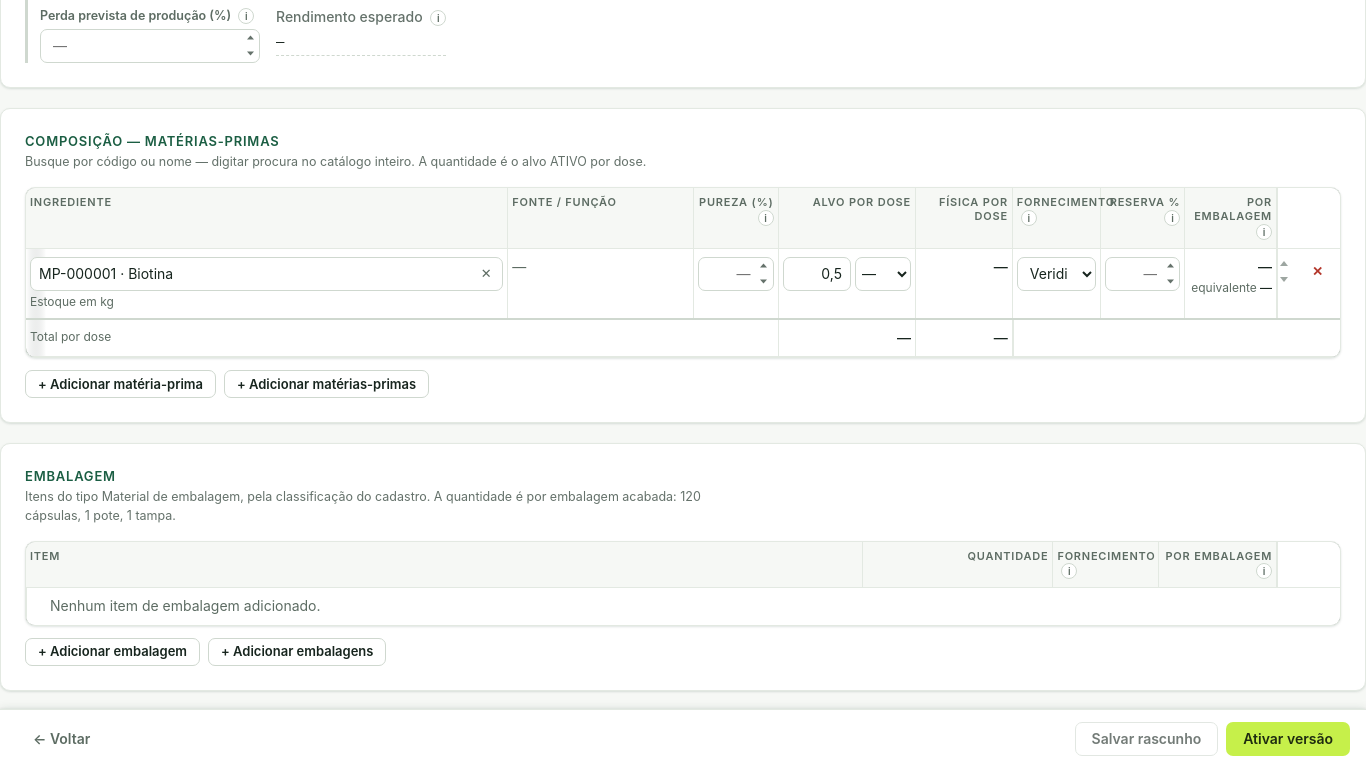
Test: Modelo de Formulação — linha incompleta não some ao salvar › quantidade sem item: salvar para e o item é o que falta, sem escolher nada pela pessoa
(page scrolled)
Click the button "+ Adicionar matéria-prima" at {"x": 120, "y": 384}, box top-left (25, 370), bottom-right (216, 398)
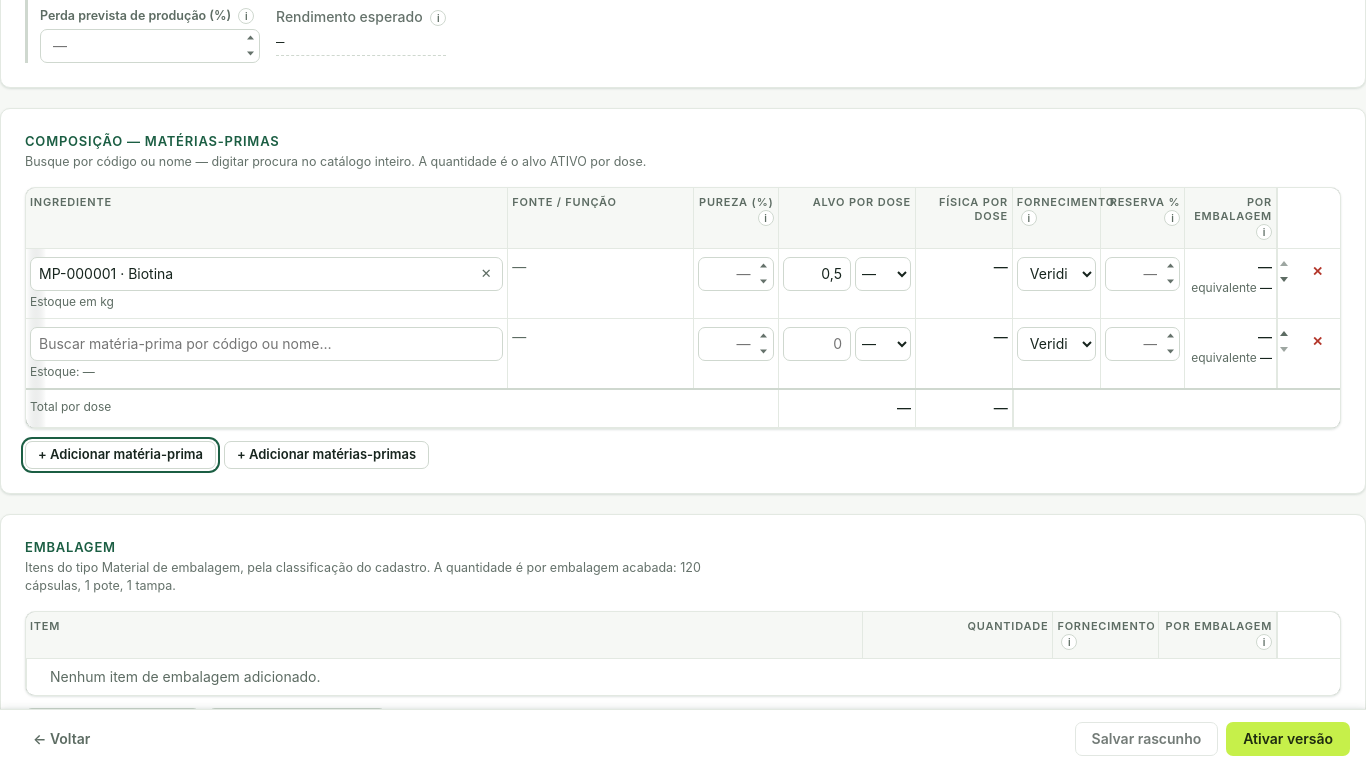
Type "2" into the field with placeholder "0" at {"x": 817, "y": 344}, box top-left (783, 327), bottom-right (851, 361)
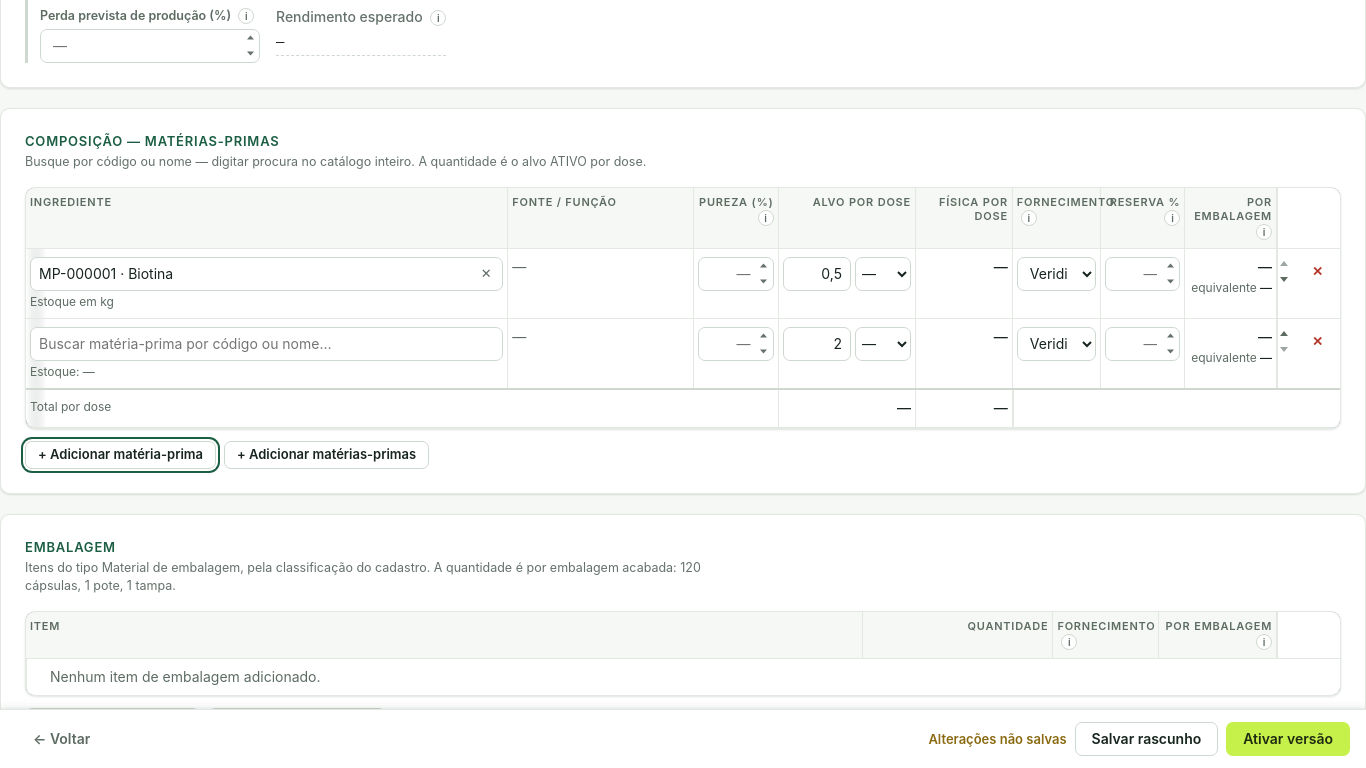
Click the button "Salvar rascunho" at {"x": 1146, "y": 739}, box top-left (1075, 722), bottom-right (1218, 756)
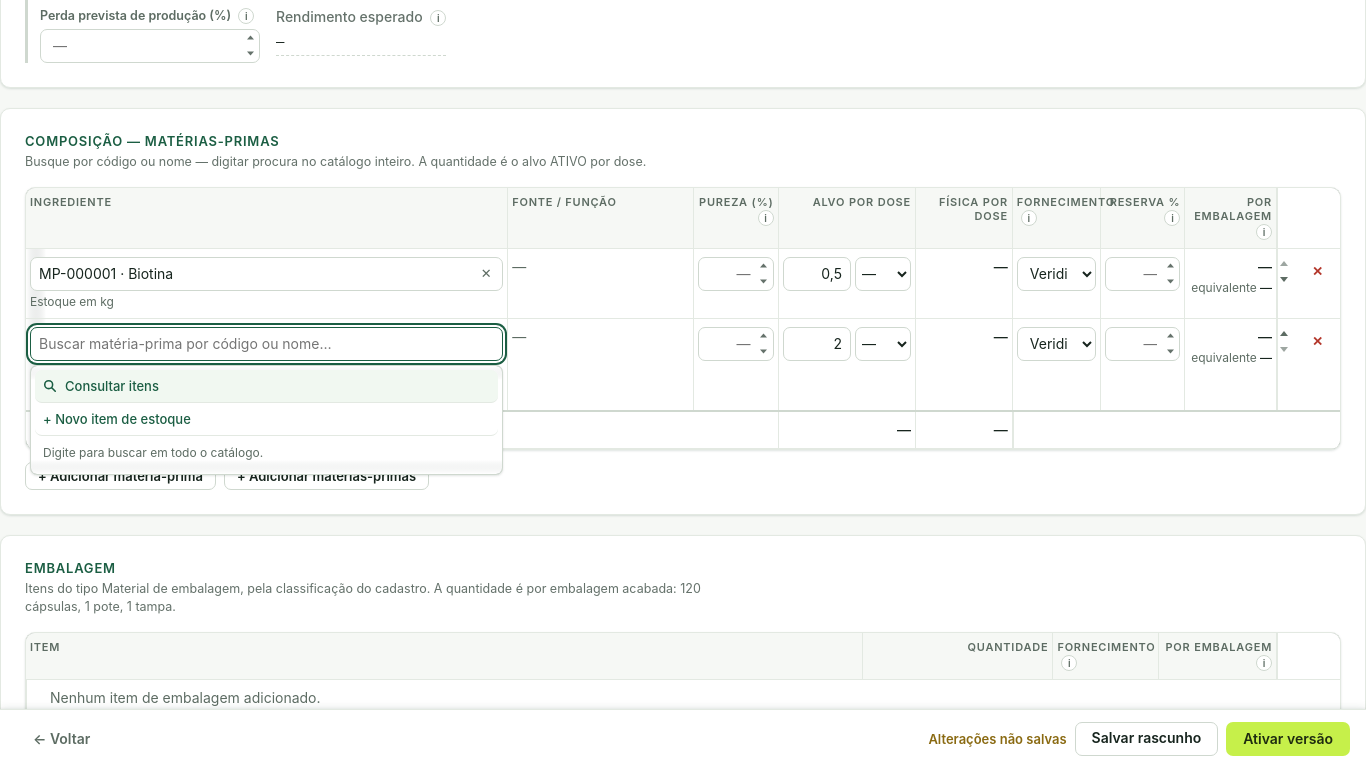
Expected: the dropdown with placeholder "Buscar matéria-prima por código ou nome…" is empty, top-left (30, 327), bottom-right (503, 361)
Expected: the text "Escolha o item deste componente ou remova a linha." is shown once, top-left (30, 366), bottom-right (329, 381)
Click the button named "Remover componente" at {"x": 1318, "y": 342}, box top-left (1299, 328), bottom-right (1336, 356)
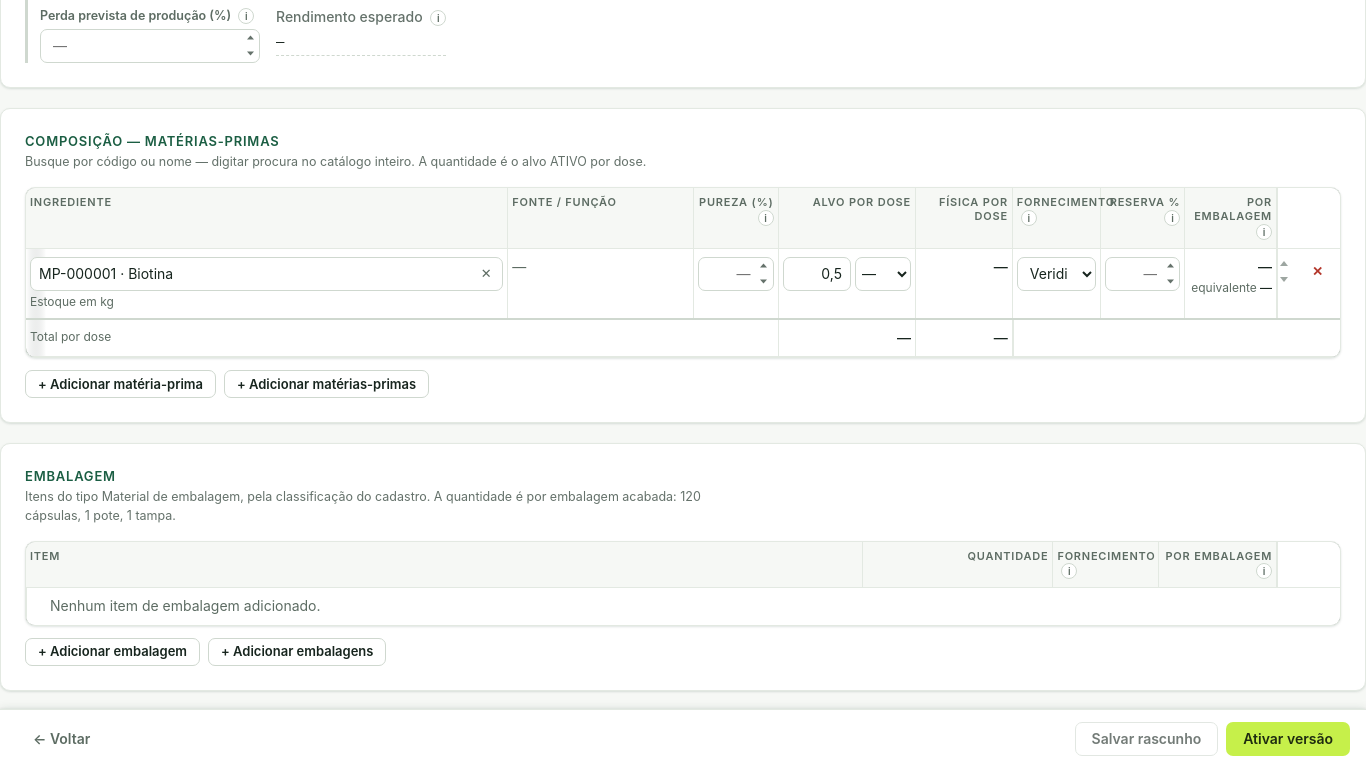
Expected: the text "Escolha o item deste componente ou remova a linha." is gone
Expected: the button "Salvar rascunho" is disabled, top-left (1075, 722), bottom-right (1218, 756)
